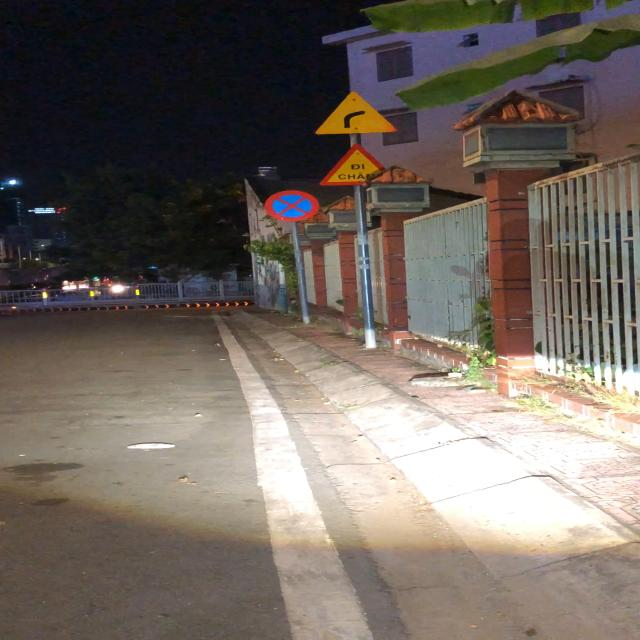Bien bao cam dung xe va do xe: (263, 191, 321, 222)
Bien bao cho ngoat nguy hiem: (313, 90, 399, 136)
Bien bao di cham: (317, 142, 389, 185)
